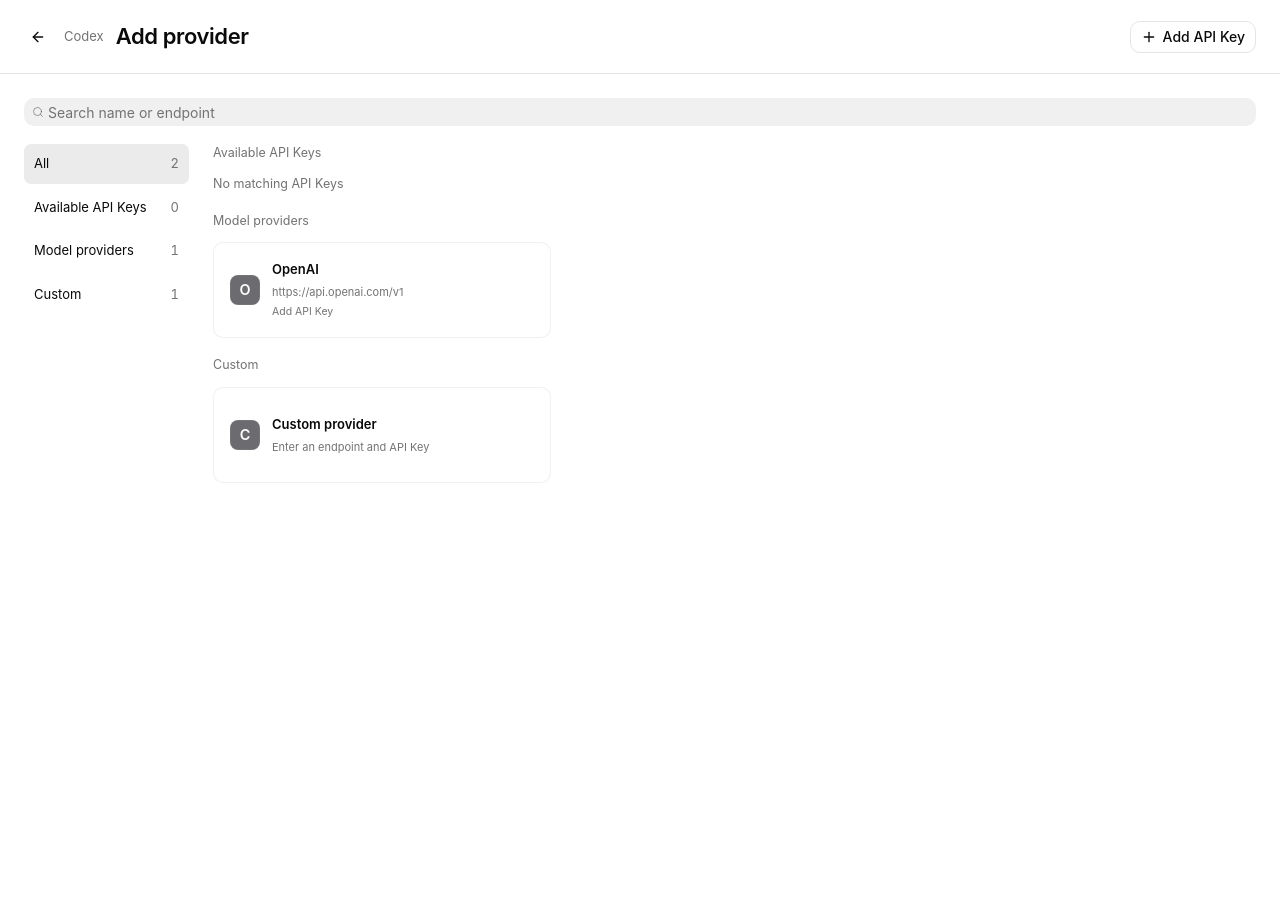
forms through fake transport › validates required key fields, retains errors and refreshes the catalog after a successful save
Later steps or results of the test are not shown.
Click the button "Add API Key" at (1193, 36), box 1130,20 -> 1256,52
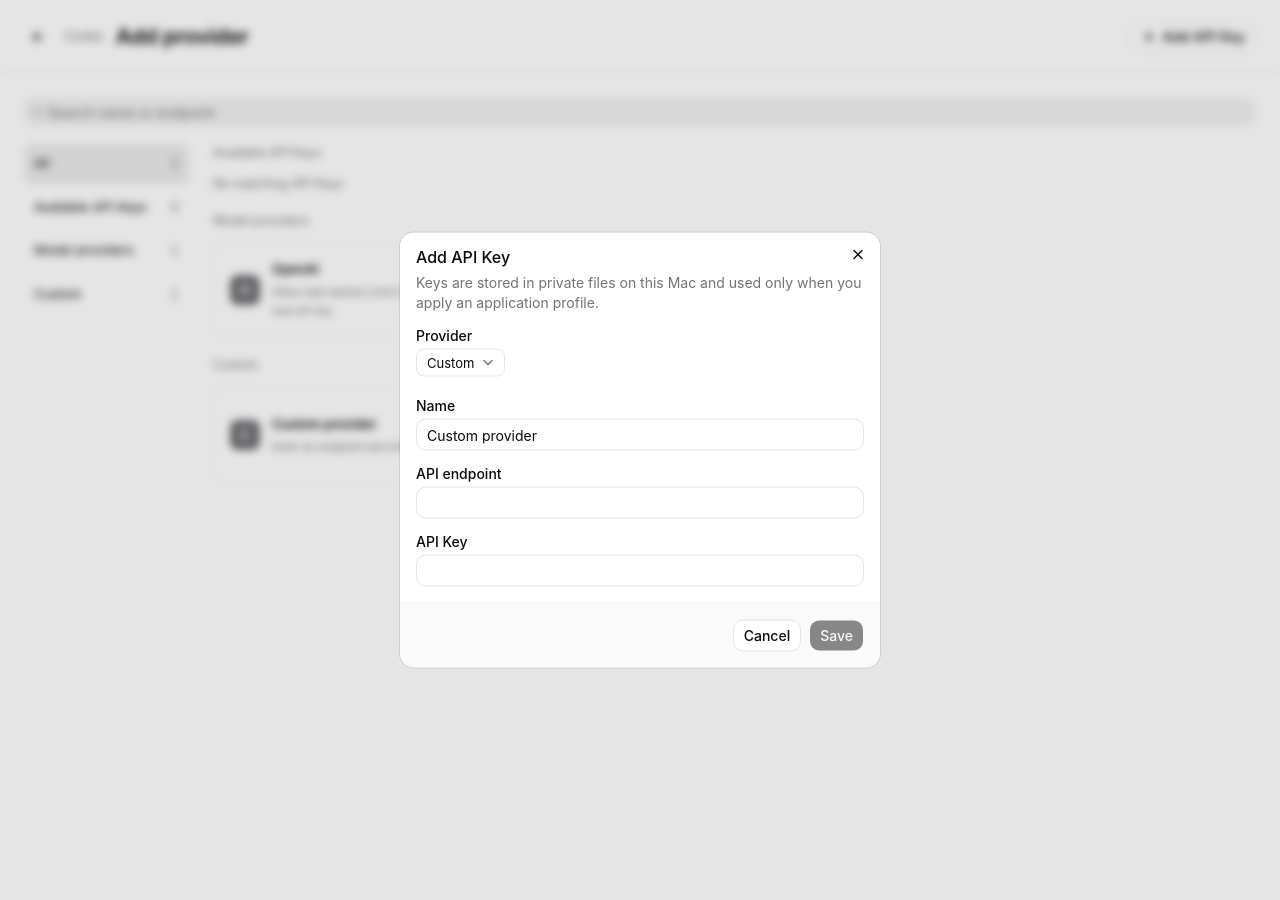
Result: the button "Save" is disabled at 809,620 -> 864,652
